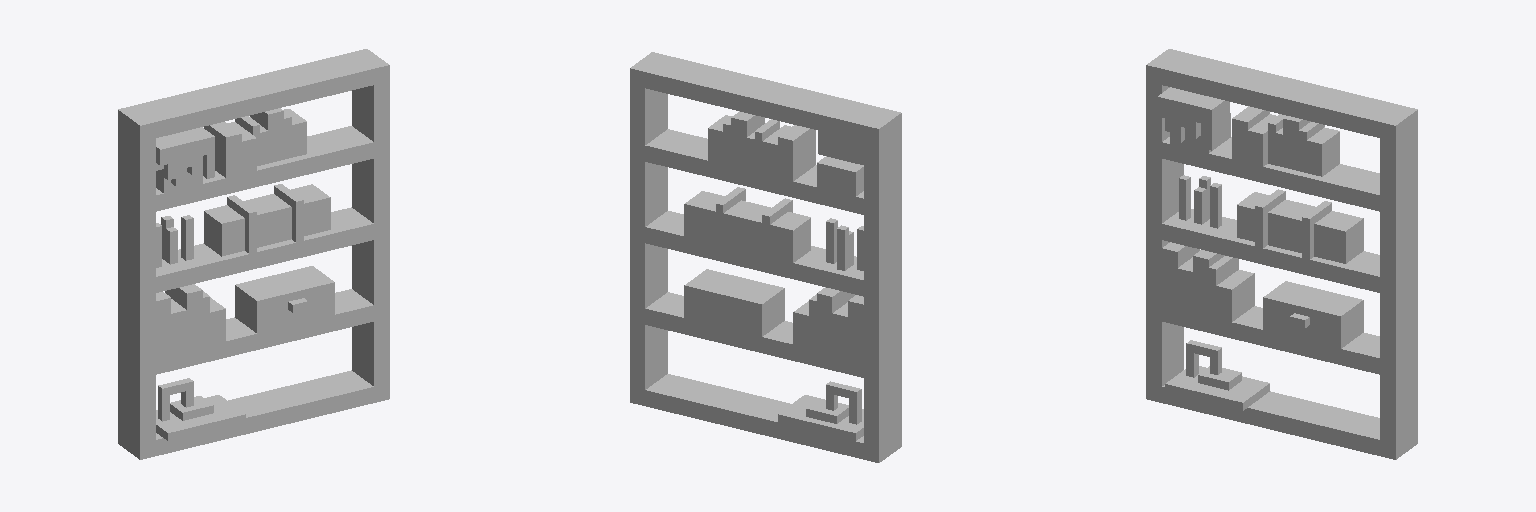
File: bookshelf.obj
3 renders of one model, left to right at view 1: azimuth 30°, elevation 25°; view 2: azimuth 150°, elevation 25°; view 3: azimuth 330°, elevation 25°, orthographic.
Parts seen in each view (by area): view 1: object 1; view 2: object 1; view 3: object 1.
Part boxes in pixels (x1,y1,x2,y2): object 1: (118,49,389,459); object 1: (630,52,901,462); object 1: (1146,49,1417,459).
Bounding box in the file's own units: 3.2 × 4.1 × 0.6.